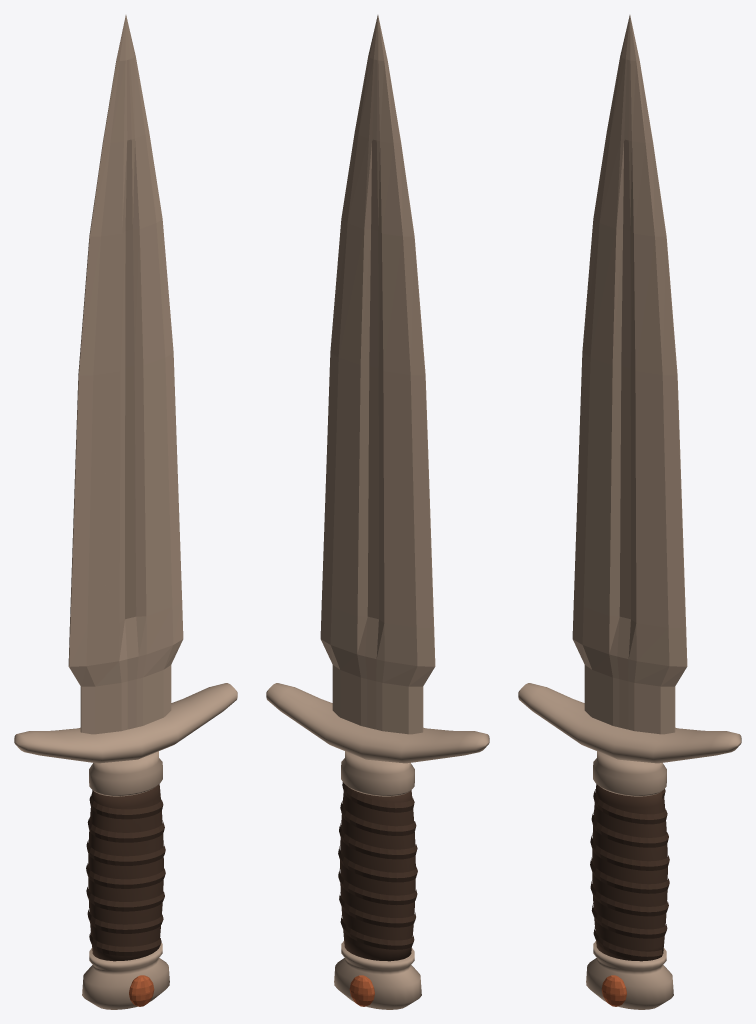
File: corealm_dagger_4.glb
The picture shows the model from 3 angles, left to right: view 1: azimuth 30°, elevation 25°; view 2: azimuth 150°, elevation 25°; view 3: azimuth 330°, elevation 25°; orthographic projection.
Parts seen in each view (by area): view 1: equipment-dagger-blade, equipment-dagger-metal, equipment-dagger-leather, equipment-dagger-gem; view 2: equipment-dagger-blade, equipment-dagger-metal, equipment-dagger-leather, equipment-dagger-gem; view 3: equipment-dagger-blade, equipment-dagger-metal, equipment-dagger-leather, equipment-dagger-gem.
Boxes of the visible parts, bbox=[...] form: equipment-dagger-blade: bbox=[68, 15, 183, 734]; equipment-dagger-metal: bbox=[14, 683, 237, 1009]; equipment-dagger-leather: bbox=[86, 784, 165, 961]; equipment-dagger-gem: bbox=[129, 975, 154, 1006]; equipment-dagger-blade: bbox=[320, 15, 435, 734]; equipment-dagger-metal: bbox=[266, 683, 489, 1009]; equipment-dagger-leather: bbox=[338, 782, 417, 961]; equipment-dagger-gem: bbox=[349, 975, 374, 1006]; equipment-dagger-blade: bbox=[572, 15, 687, 734]; equipment-dagger-metal: bbox=[518, 683, 741, 1009]; equipment-dagger-leather: bbox=[590, 784, 669, 961]; equipment-dagger-gem: bbox=[601, 975, 626, 1006].
Size of the model in its own units: 0.18 by 0.778 by 0.056.
